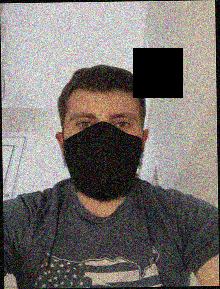with_mask: (63, 104, 144, 203)
